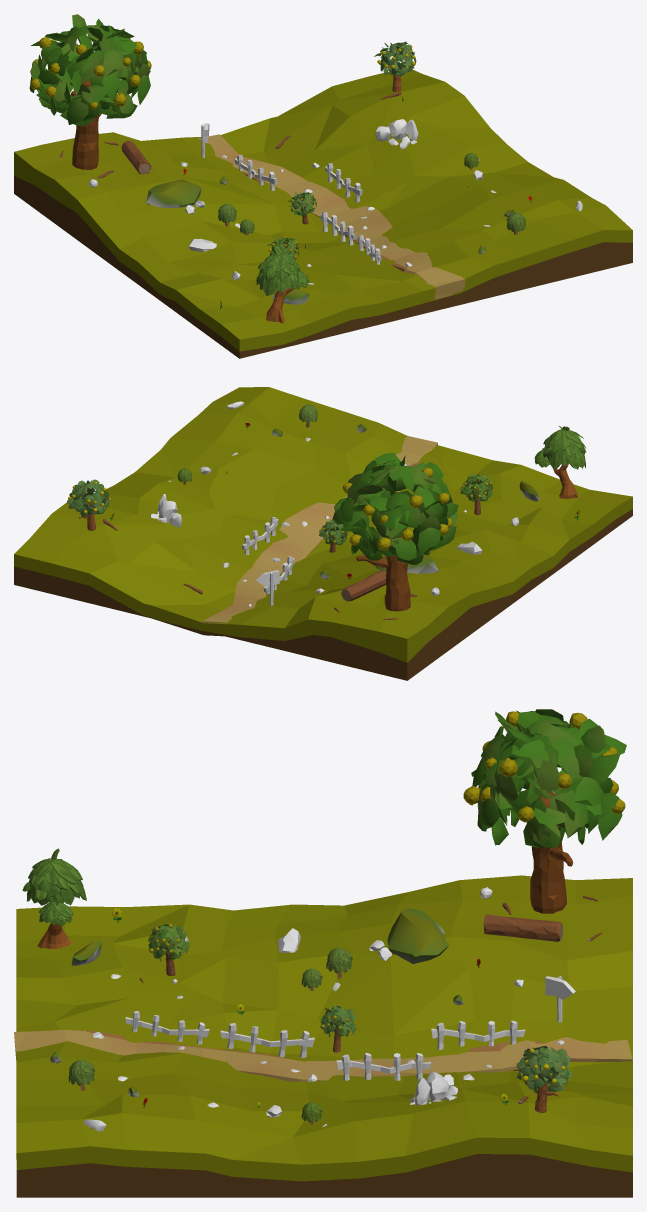
File: EstradaBrumas.fbx
3 views of the same model, one above another, from view 1: azimuth 30°, elevation 25°; view 2: azimuth 150°, elevation 25°; view 3: azimuth 270°, elevation 25° (orthographic). The views are drawn at different scales.
Parts seen in each view (by area): view 1: Water, Arvore.006, Arvore, Arvore.031, PedrasUnidadesMusgo.004, Arvore.007, Pedras.002, Cylinder, Cube, Cube.002, Cube.003, Arvore.005; view 2: Water, Arvore.006, Arvore, Arvore.031, Arvore.007, Cylinder, Arvore.004, Pedras.002, Cube.002, Arvore.005, PedrasUnidadesMusgo.004; view 3: Water, Arvore.006, Arvore, Arvore.031, PedrasUnidadesMusgo.004, Arvore.007, Cylinder, Cube.002, Cube, Cube.003, Pedras.002, Arvore.004 (+2 smaller).
Part boxes in pixels (<box>): Water: <box>14,69,632,358</box>; Arvore.006: <box>29,14,150,126</box>; Arvore: <box>30,37,151,169</box>; Arvore.031: <box>256,246,309,323</box>; PedrasUnidadesMusgo.004: <box>146,179,201,208</box>; Arvore.007: <box>374,41,416,76</box>; Pedras.002: <box>375,119,418,149</box>; Cylinder: <box>121,141,151,174</box>; Cube: <box>320,212,355,245</box>; Cube.002: <box>325,163,362,202</box>; Cube.003: <box>234,154,277,190</box>; Arvore.005: <box>288,192,316,216</box>; Water: <box>14,387,632,680</box>; Arvore.006: <box>332,452,458,564</box>; Arvore: <box>342,465,452,611</box>; Arvore.031: <box>534,426,586,498</box>; Arvore.007: <box>67,479,109,516</box>; Cylinder: <box>341,570,386,601</box>; Arvore.004: <box>460,473,492,501</box>; Pedras.002: <box>150,494,181,527</box>; Cube.002: <box>242,517,278,554</box>; Arvore.005: <box>319,520,347,545</box>; PedrasUnidadesMusgo.004: <box>375,555,438,573</box>; Water: <box>14,875,632,1197</box>; Arvore.006: <box>471,709,626,848</box>; Arvore: <box>463,711,625,913</box>; Arvore.031: <box>22,848,86,948</box>; PedrasUnidadesMusgo.004: <box>387,908,448,963</box>; Arvore.007: <box>516,1045,572,1093</box>; Cylinder: <box>483,914,562,941</box>; Cube.002: <box>336,1053,431,1080</box>; Cube: <box>220,1023,314,1057</box>; Cube.003: <box>431,1020,525,1049</box>; Pedras.002: <box>409,1071,457,1105</box>; Arvore.004: <box>148,924,189,961</box>.
Size of the model in its own units: 1525 by 678 by 1476.
